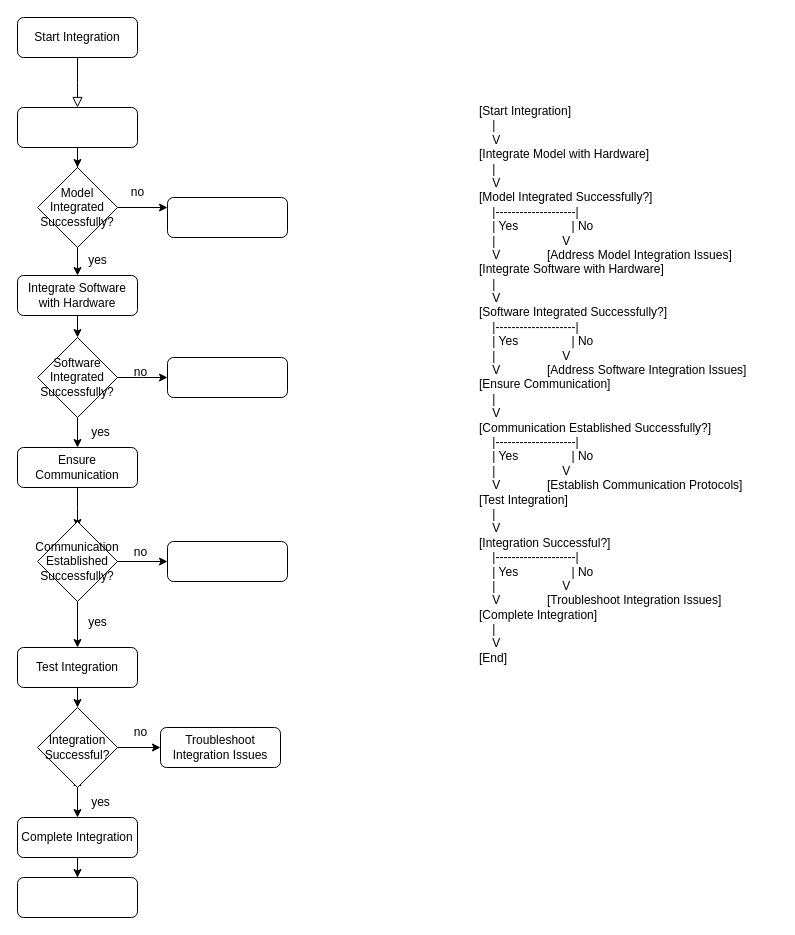
Some shapes in this 795 by 935 pixel diagram are drawn without their labels. The centre of each missing label's shape, as x and y in pixels:
Address Model Integration Issues: pixel 227 217
Address Software Integration Issues: pixel 227 377
End: pixel 77 897
Establish Communication Protocols: pixel 227 561
Integrate Model with Hardware: pixel 77 127
